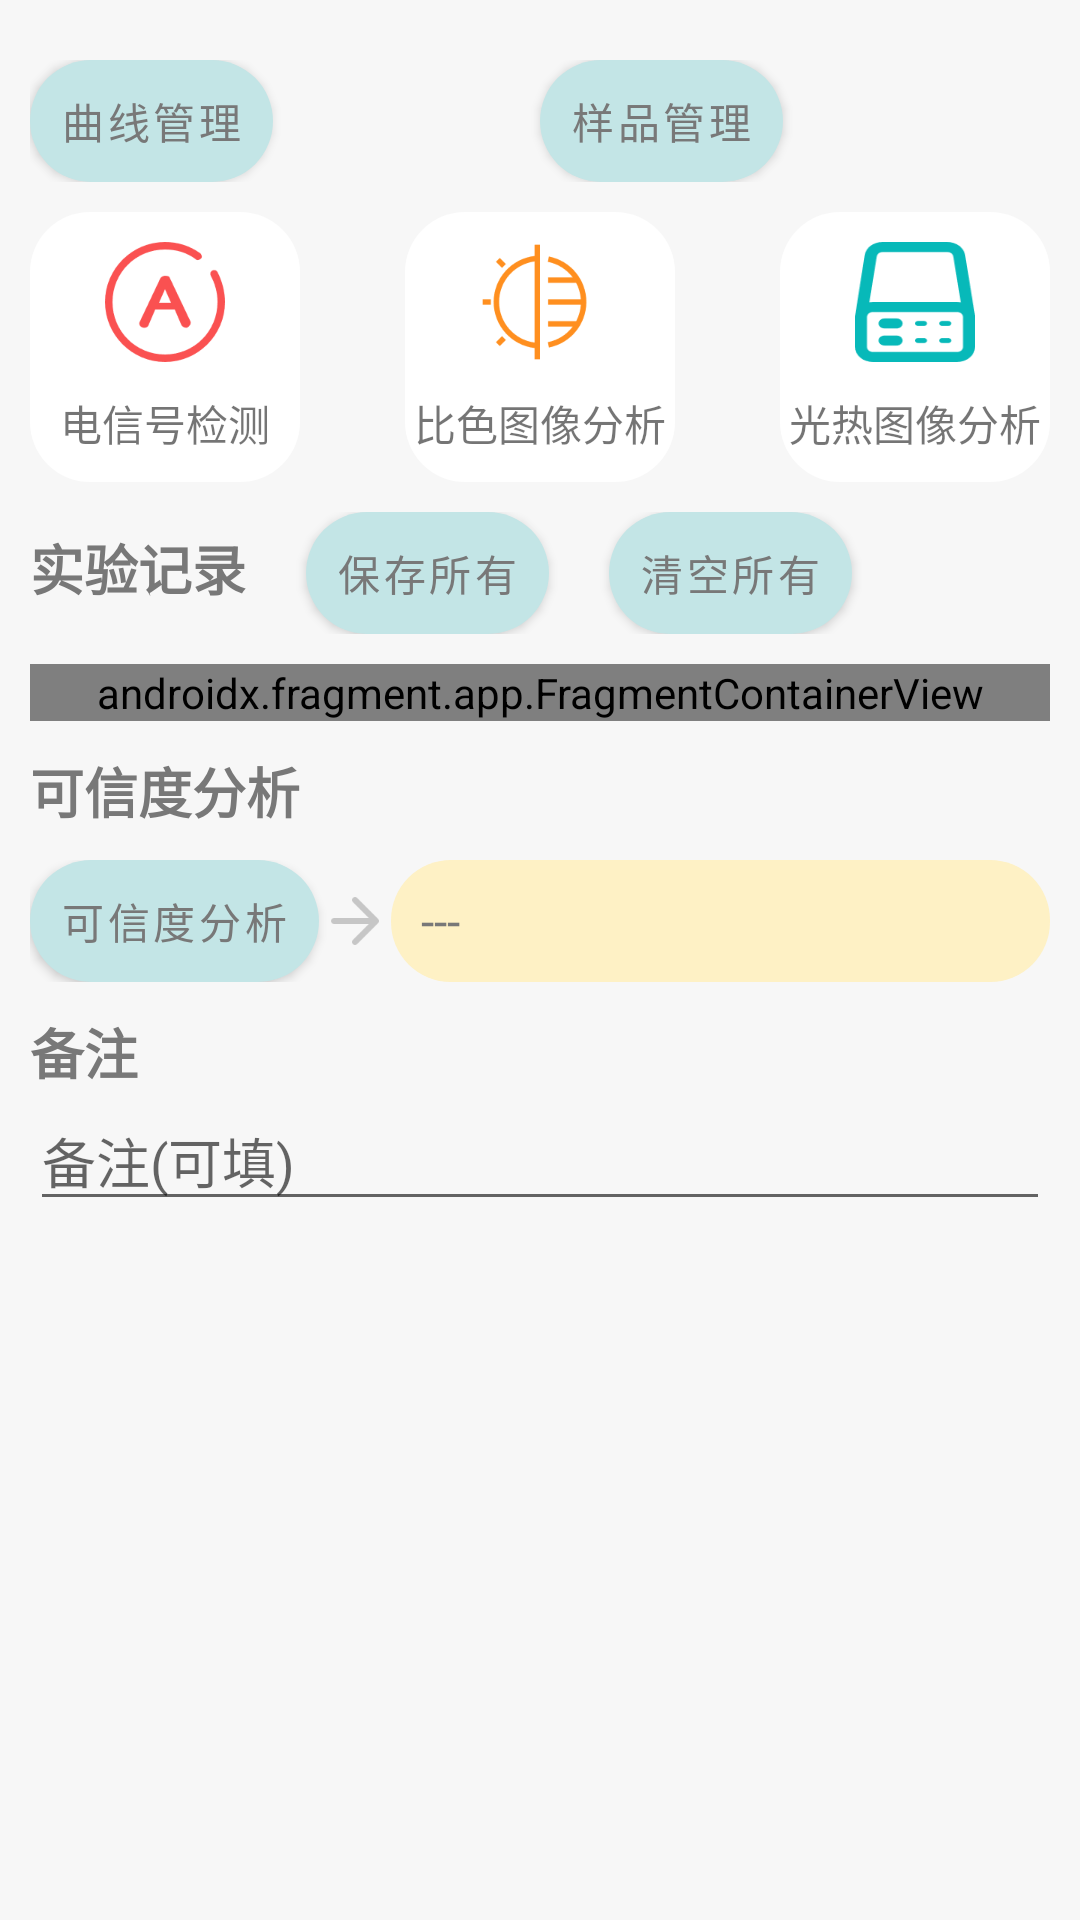

Icons on this 1080x1920 Android screen, each with the point to tap as (x=x, y=y):
arrowhead: (x=355, y=921)
